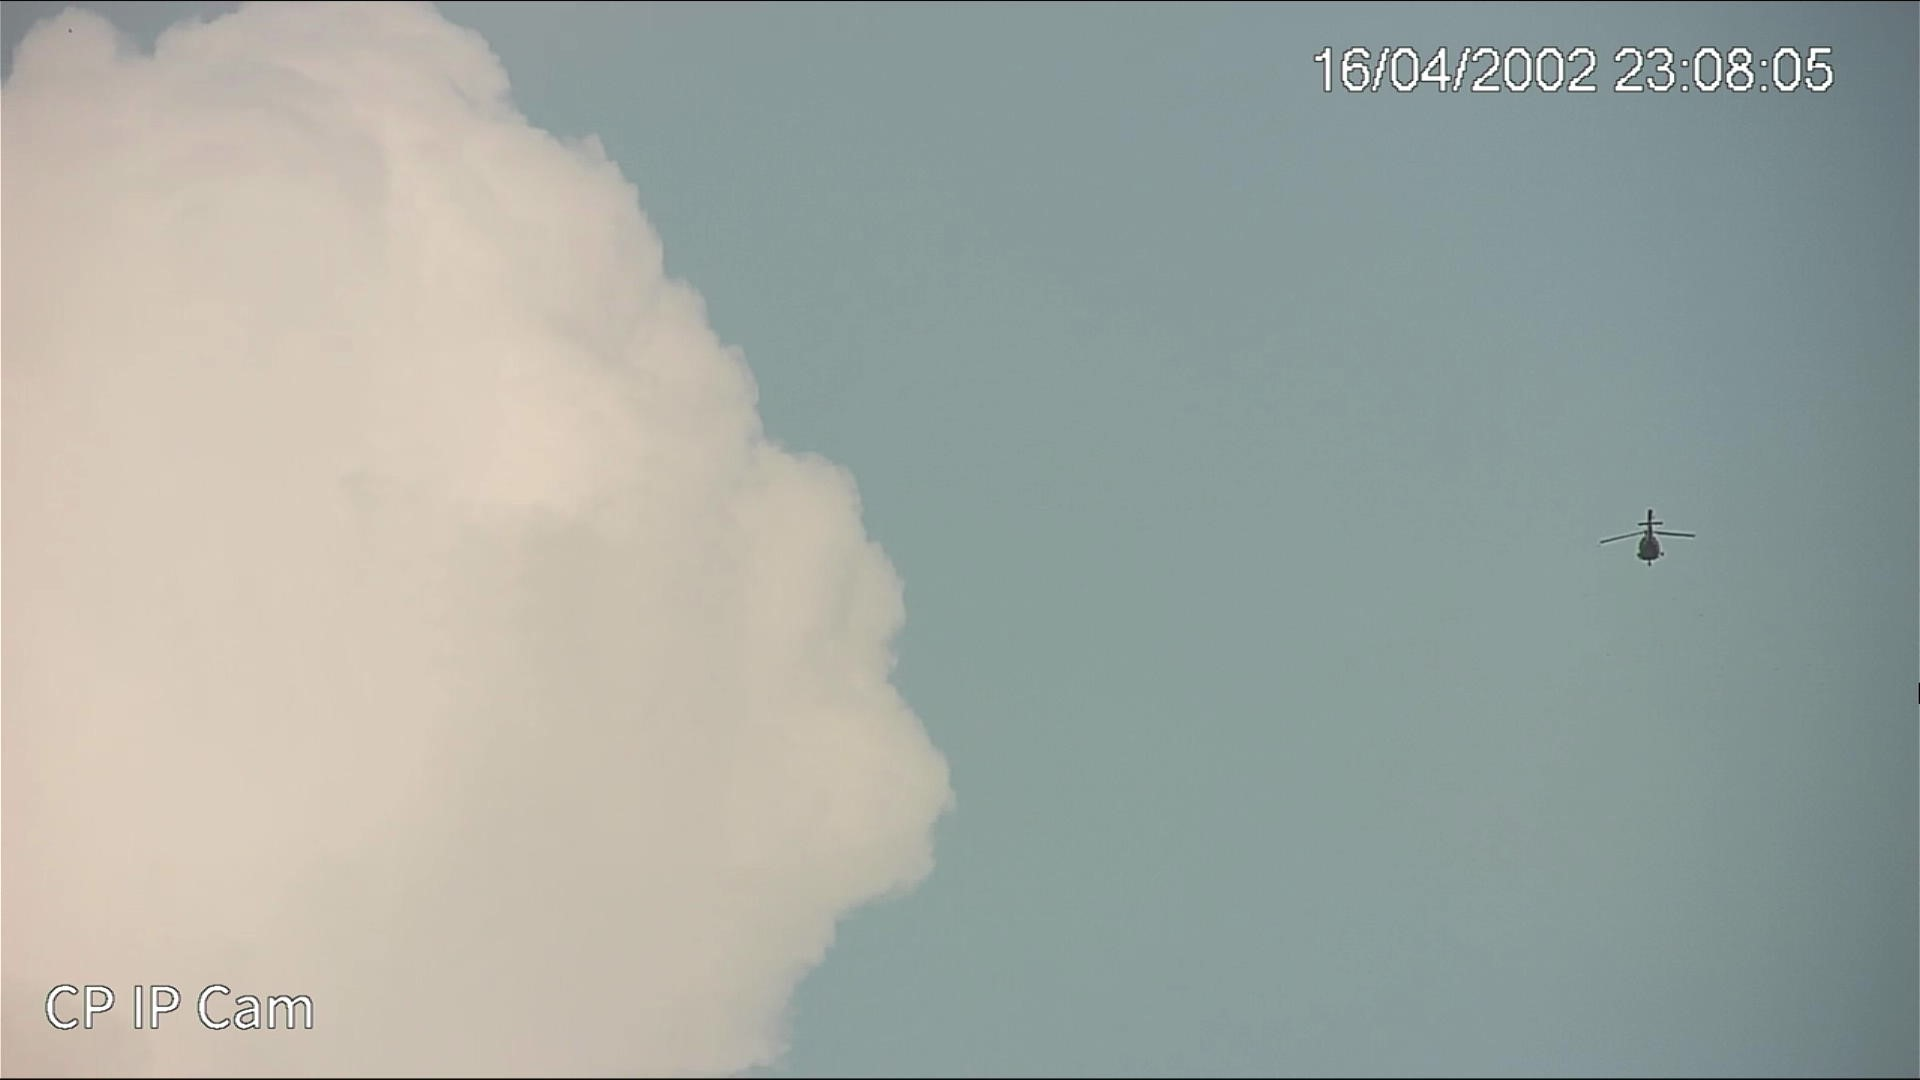SU_30: (1598, 506, 1697, 568)
